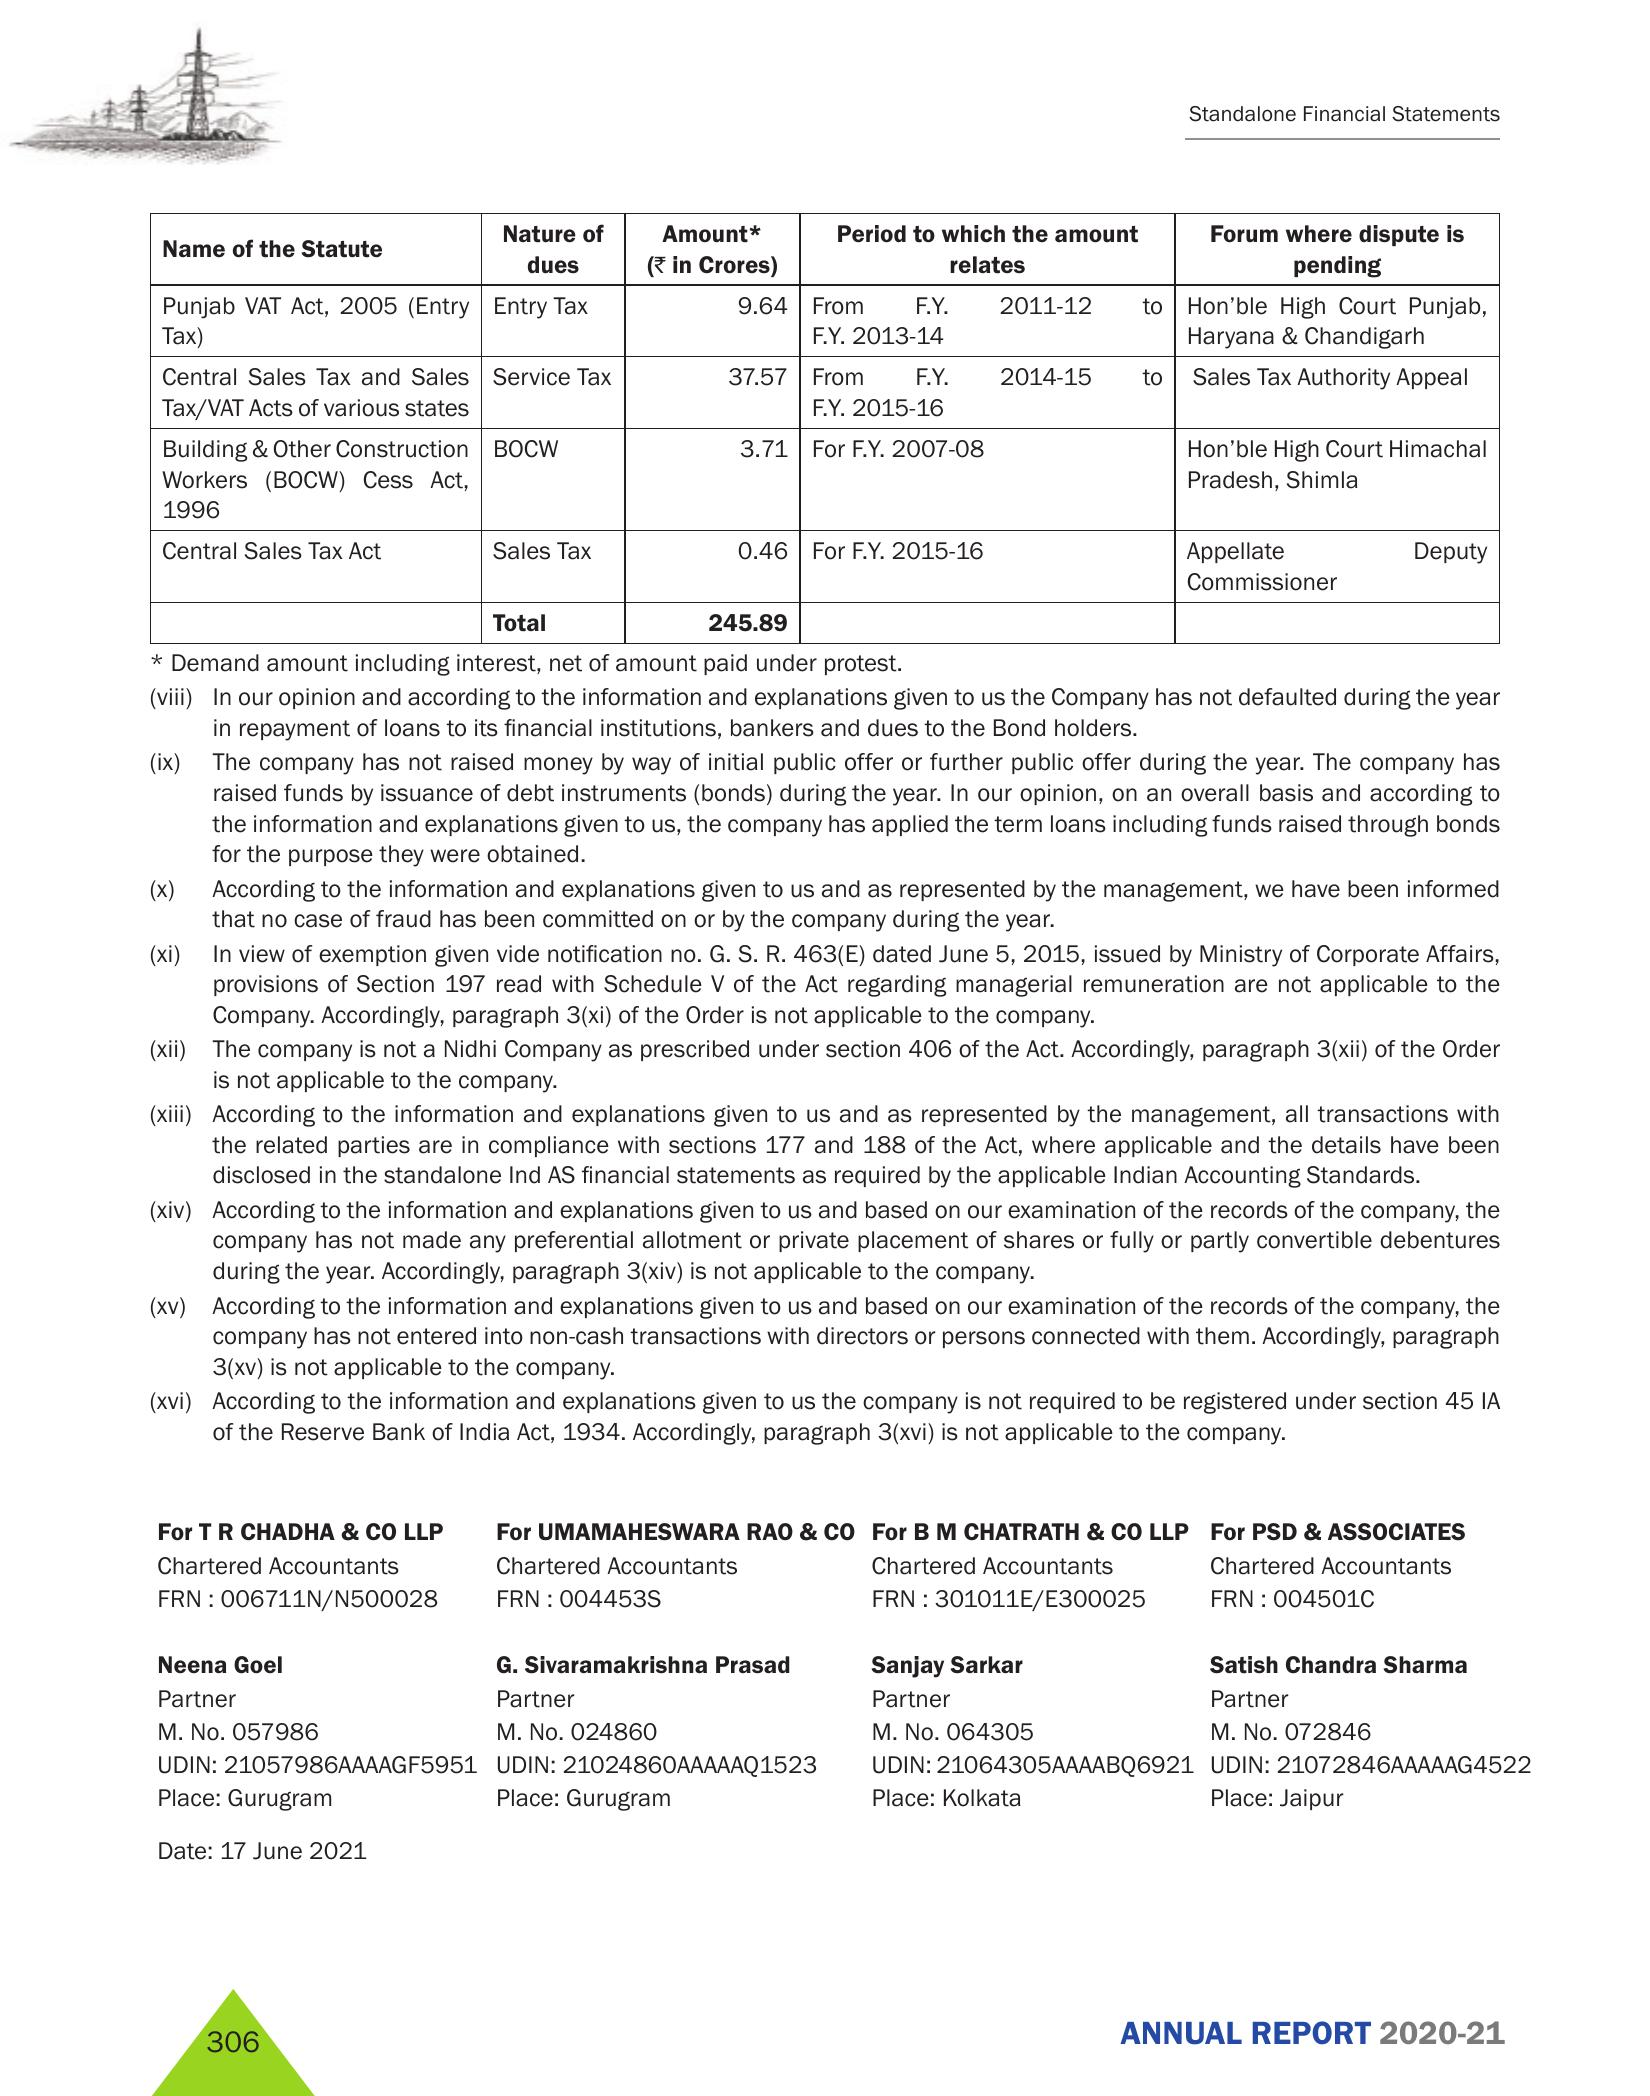Footer: (0, 1979, 1650, 2096)
Header: (0, 0, 1650, 180)
Table: (146, 213, 1499, 653)
